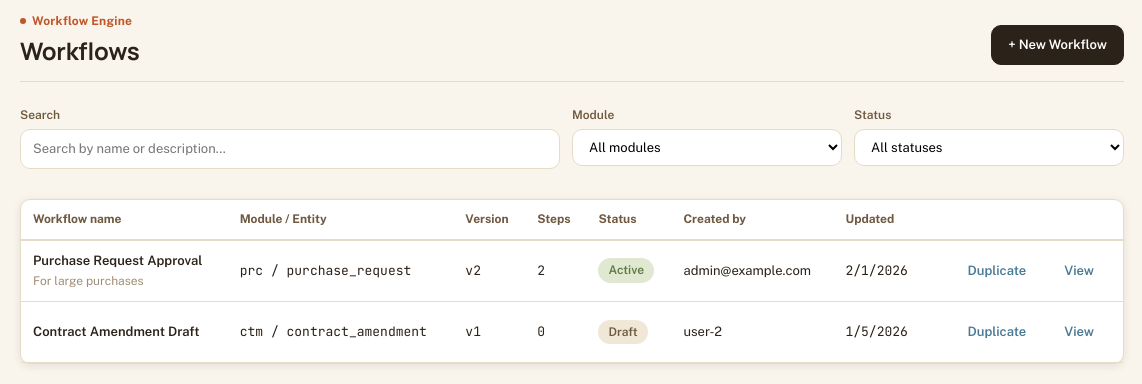
Scenario: WorkflowListPage › filters client-side by search text
Check: the text "Purchase Request Approval" is shown, box [33, 251, 216, 272]
In the field with placeholder "Search by name or description…": (290, 149) [20, 129, 560, 169], type "Contract"
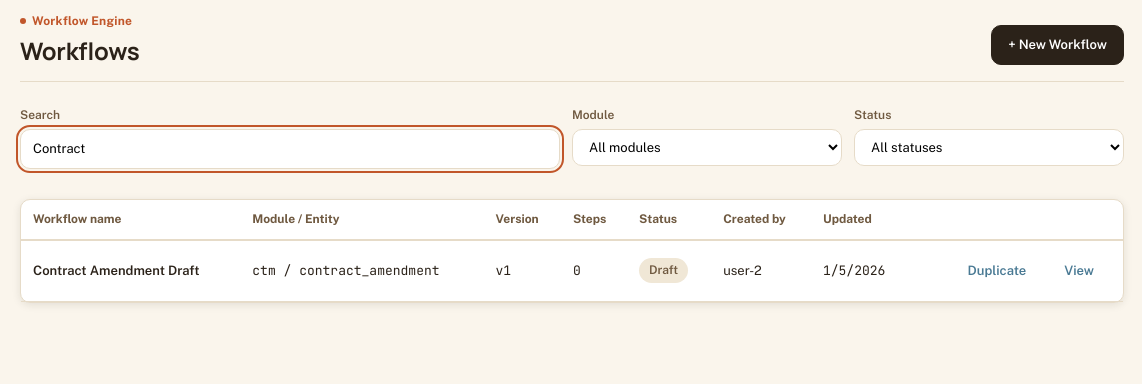
Check: the text "Contract Amendment Draft" is shown, box [33, 261, 228, 281]
Check: the text "Purchase Request Approval" is gone
